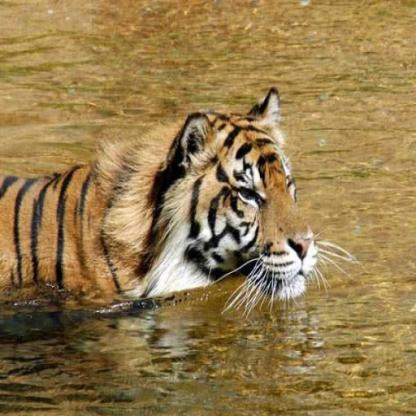Tiger: (0, 77, 335, 349)
